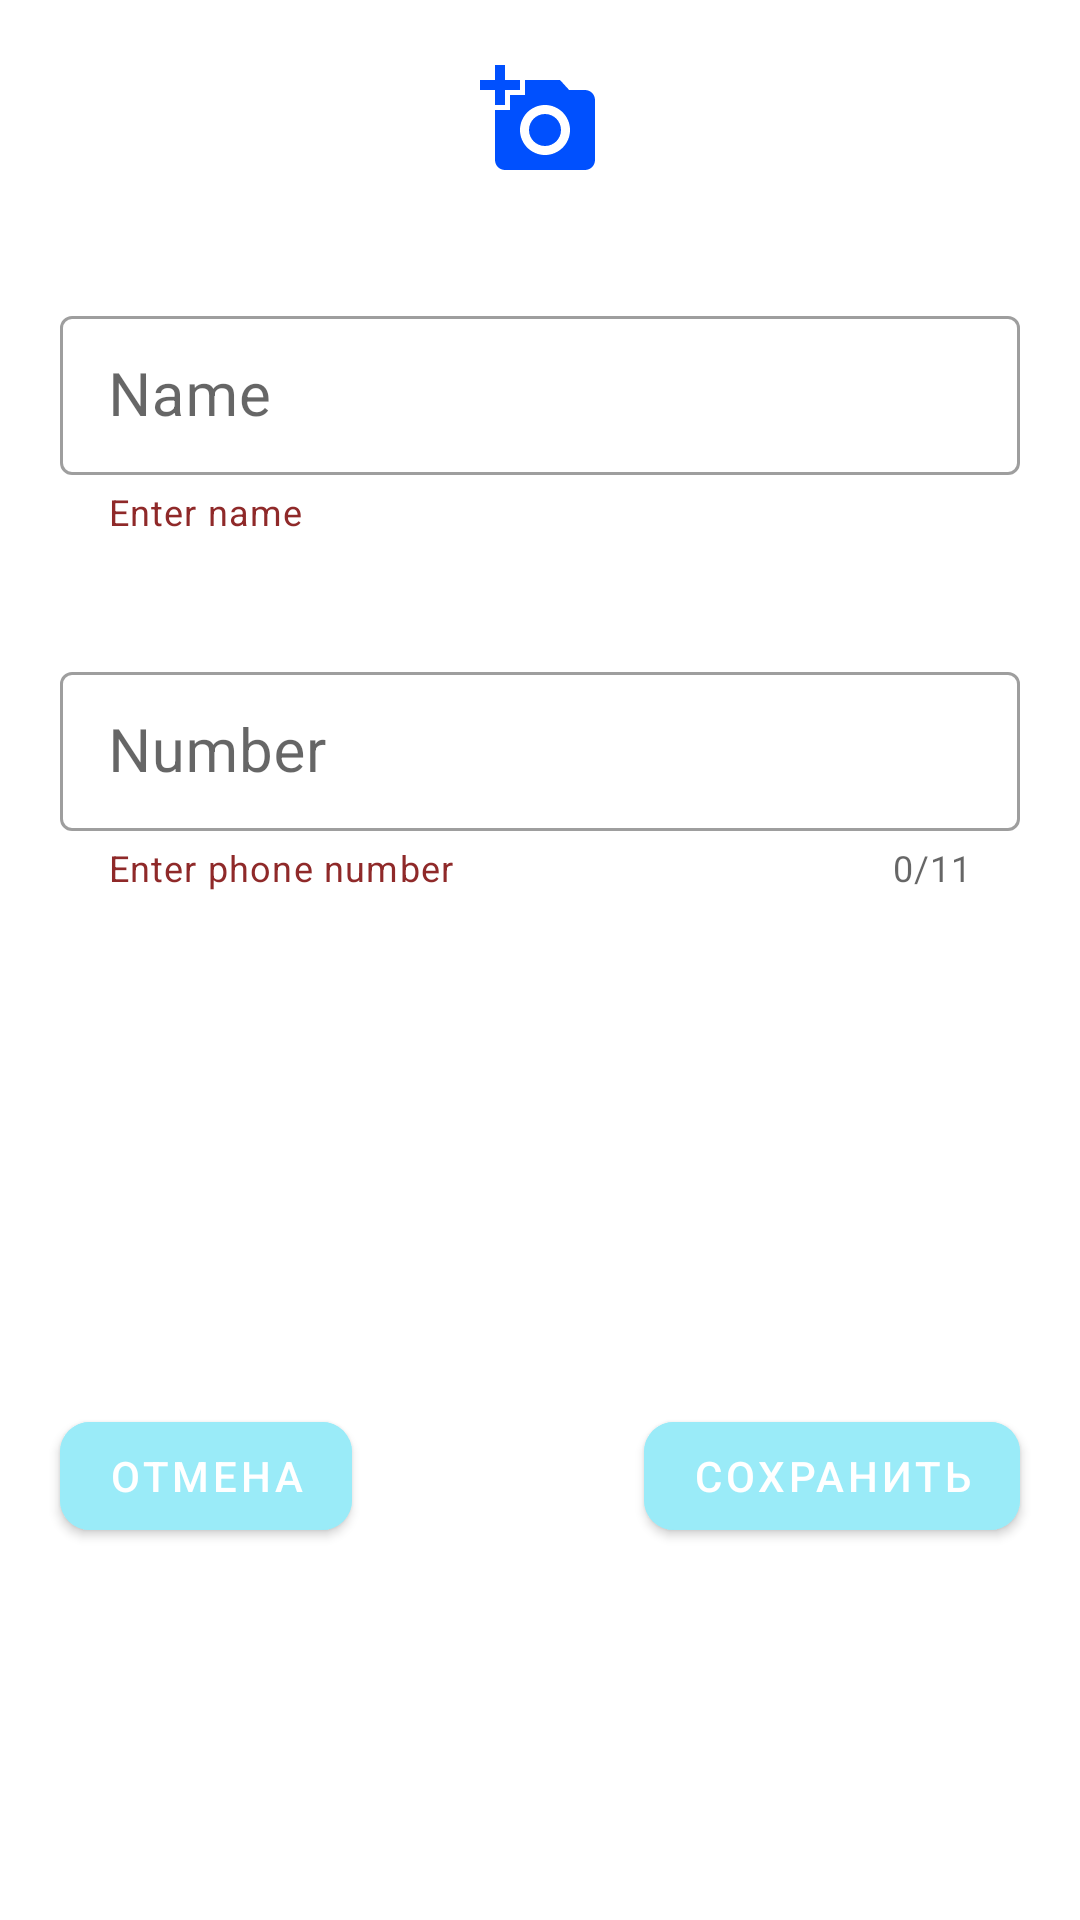

Where to tap for icons on this 1080w x 1920h app screen, as (x=x, y=y):
Add avatar: (x=537, y=117)
